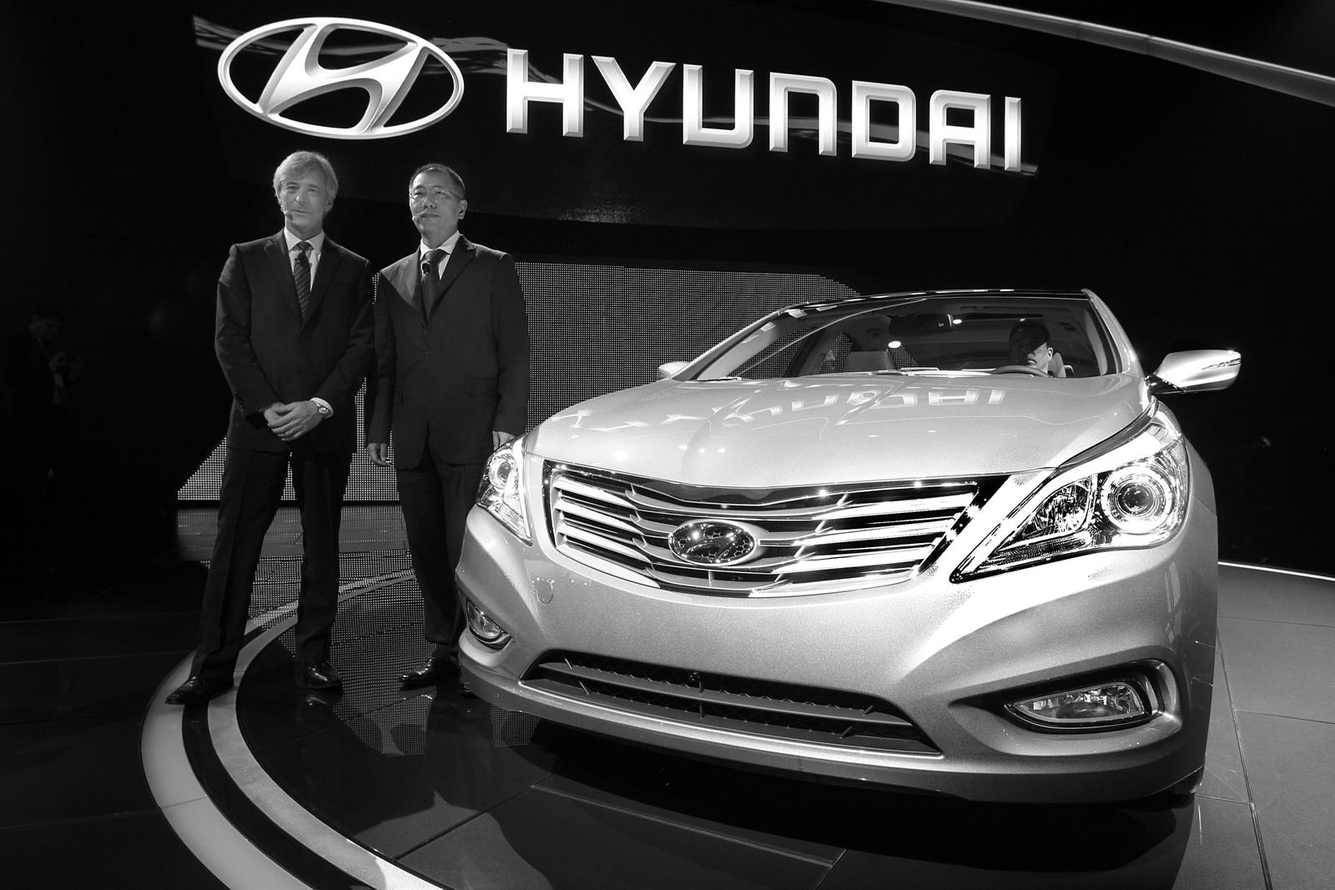car: (455, 278, 1248, 815)
